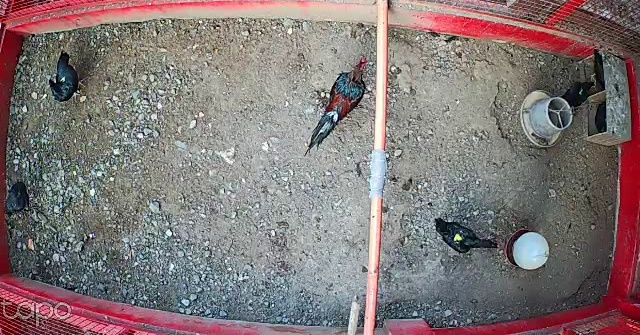Chicken: (430, 214, 500, 257), (47, 52, 83, 107), (1, 177, 46, 220), (558, 80, 595, 111)
Rooster: (302, 54, 370, 155)
Saddle_Color_Yellow: (454, 232, 466, 242)
